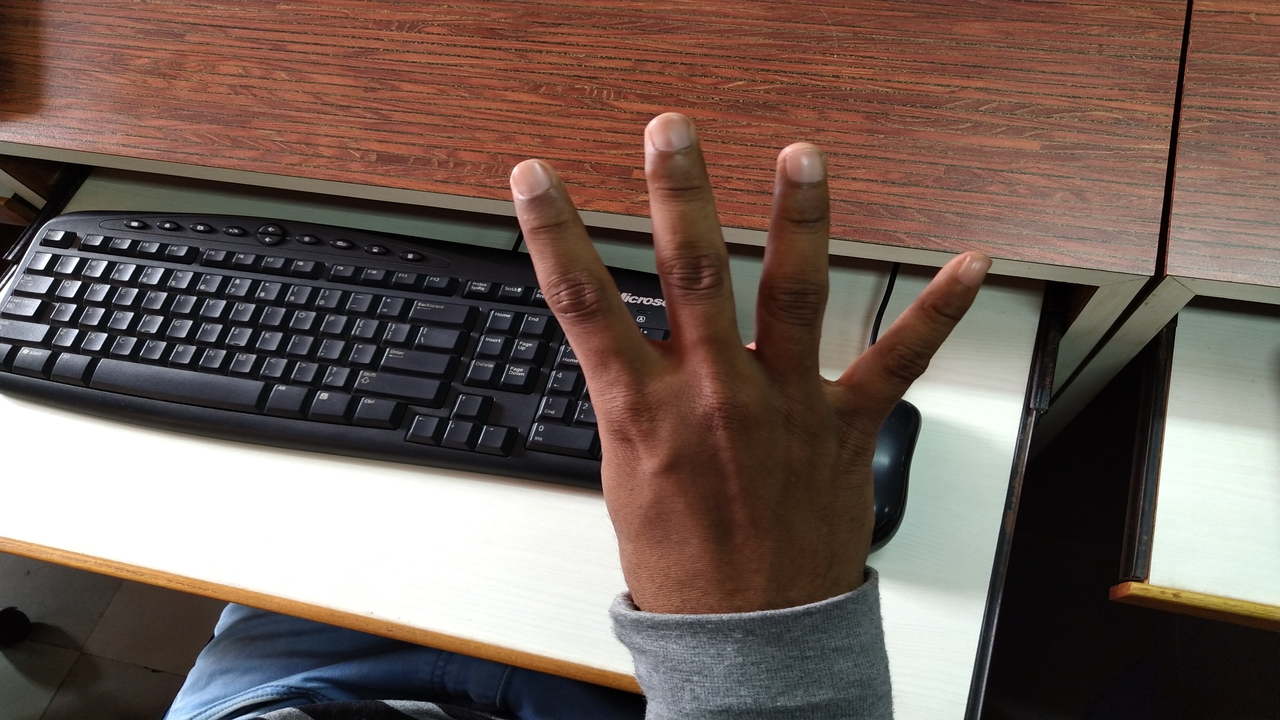fingertip: (638, 110, 708, 168), (936, 238, 1004, 296), (500, 150, 566, 208), (772, 140, 836, 192)
